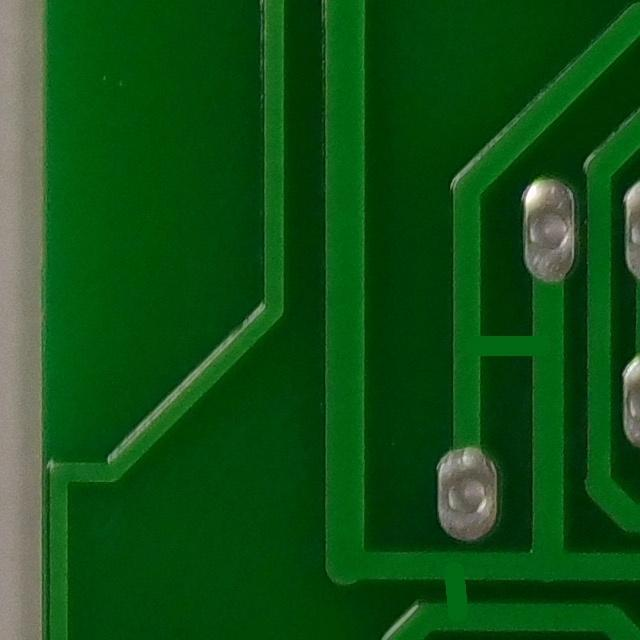short: (430, 318, 578, 377), (424, 536, 484, 640)
